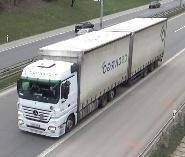truck: (11, 12, 181, 149)
